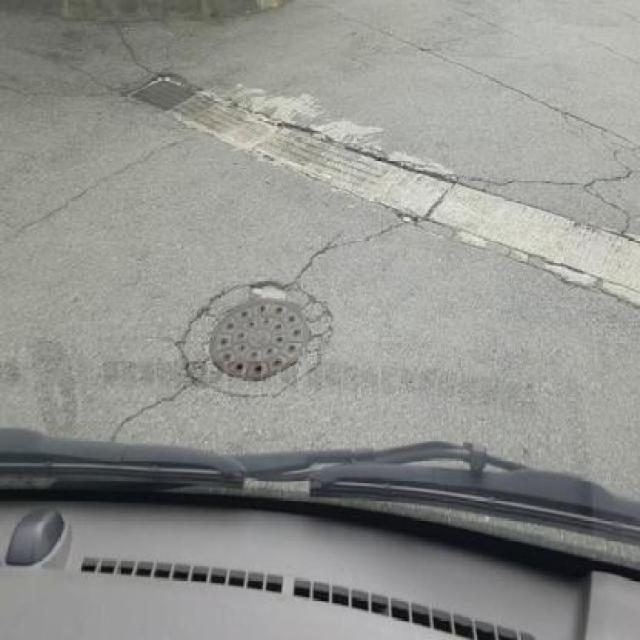Manhole: (170, 276, 338, 400), (126, 66, 205, 112)
